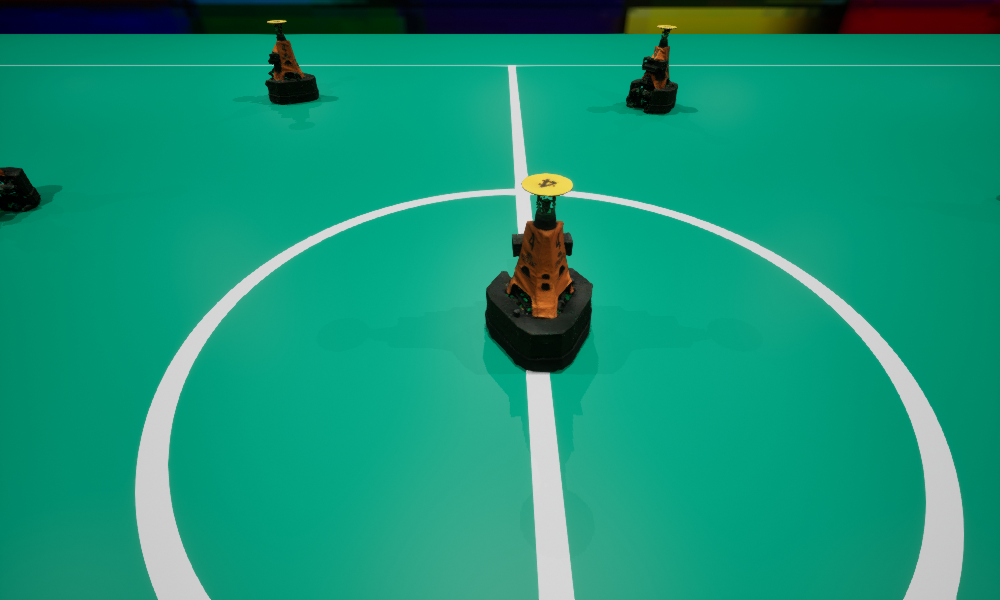o: (485, 173, 592, 371), (626, 25, 677, 113), (265, 20, 318, 103), (0, 167, 40, 212)
